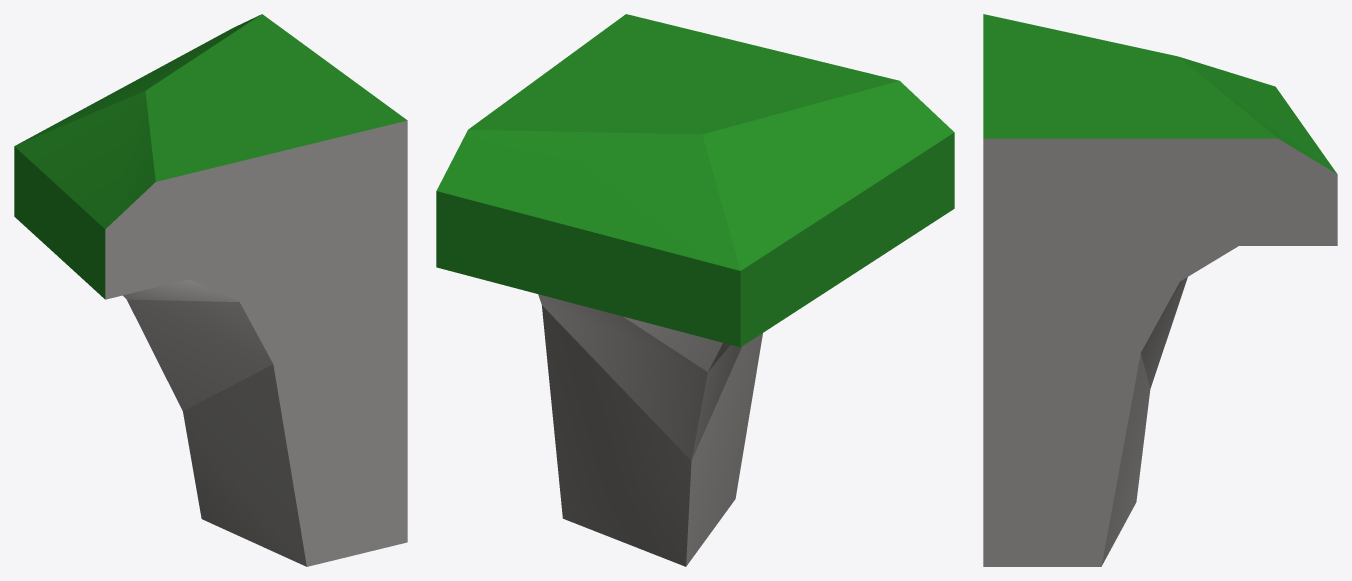
The model's file is CliffOutCorner.fbx.
3 views of the same model, side by side, from view 1: azimuth 30°, elevation 25°; view 2: azimuth 150°, elevation 25°; view 3: azimuth 270°, elevation 25° (orthographic). The views are drawn at different scales.
Parts seen in each view (by area): view 1: Cliff_Top_Corner_Outer_Sm_70; view 2: Cliff_Top_Corner_Outer_Sm_70; view 3: Cliff_Top_Corner_Outer_Sm_70.
Part boxes in pixels (x1,y1,x2,y2): Cliff_Top_Corner_Outer_Sm_70: [14, 14, 407, 566]; Cliff_Top_Corner_Outer_Sm_70: [436, 14, 954, 566]; Cliff_Top_Corner_Outer_Sm_70: [983, 14, 1337, 566].
Bounding box in the file's own units: 9 × 12 × 9.
